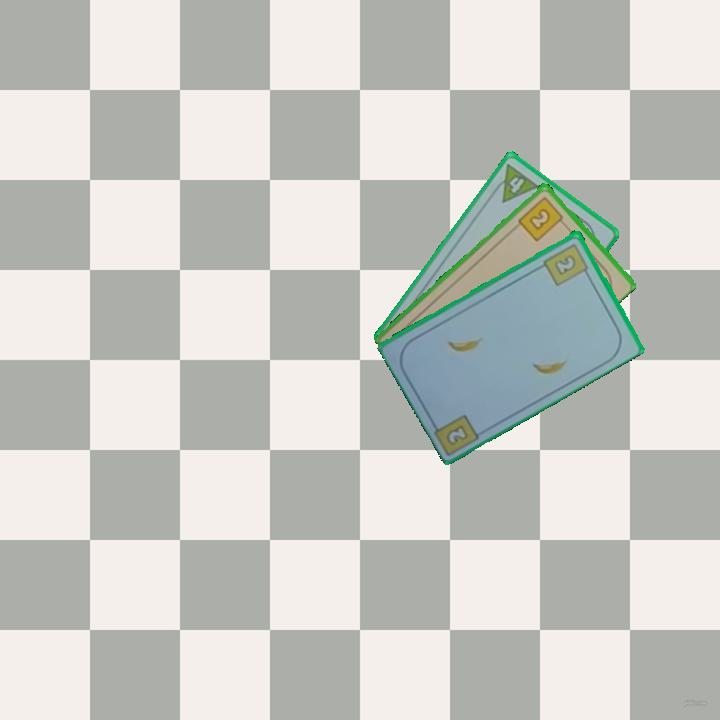2b: (515, 193, 568, 244), (540, 239, 592, 288), (442, 421, 471, 446)
4p: (488, 160, 542, 205)
